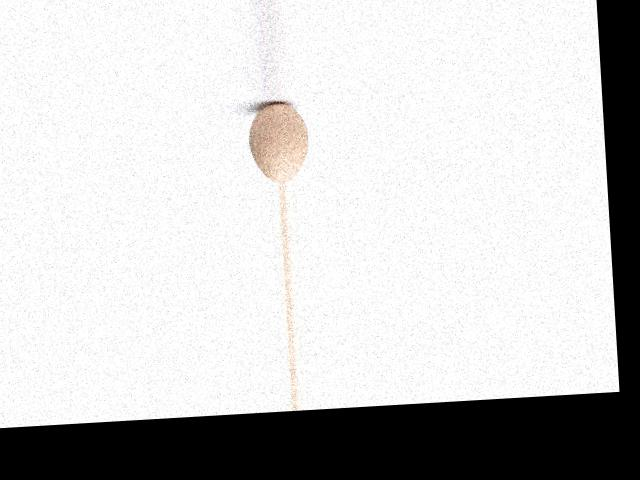egg: (247, 101, 310, 183)
